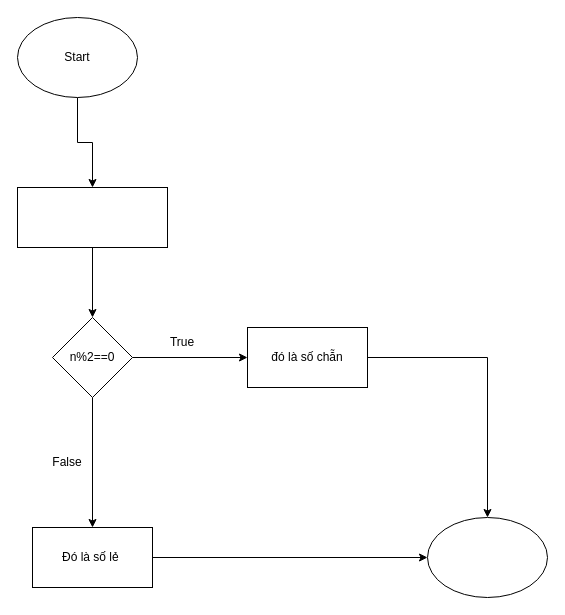
Image size: 565x615. Some labels were removed from this diagram. Each missing label, with the box of its shape:
end: (426, 516, 548, 598)
Nhập số cần kiểm tra (n): (16, 186, 168, 248)
